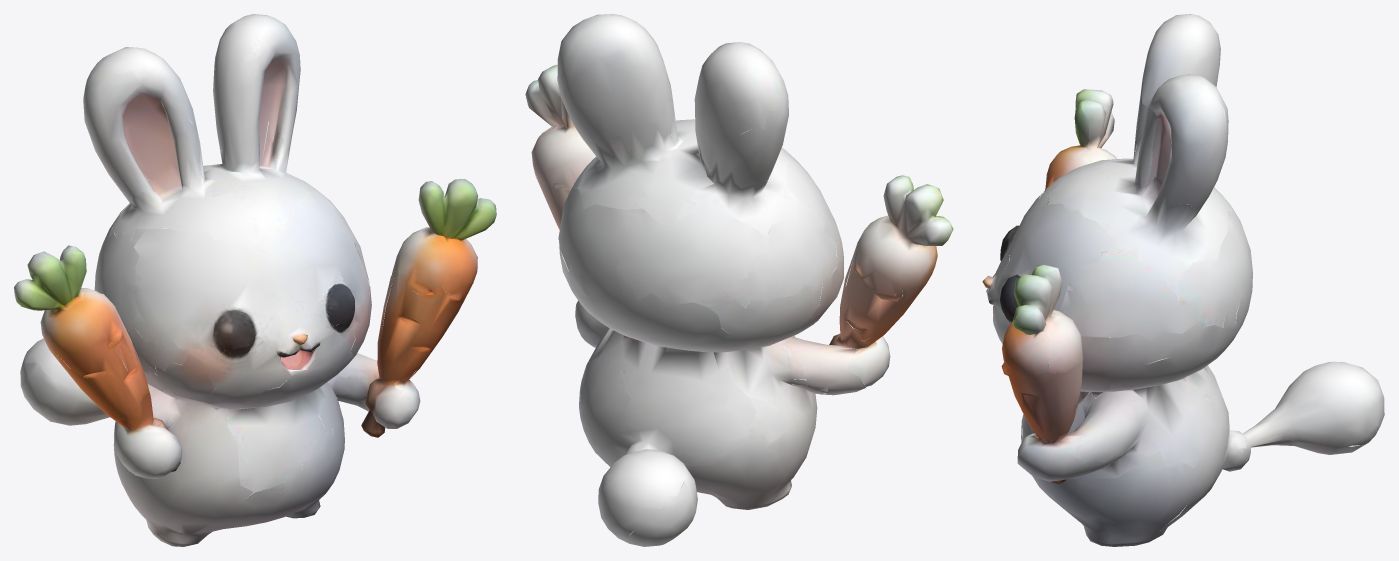
File: mob_rabbit.glb
3 renders of one model, left to right at view 1: azimuth 30°, elevation 25°; view 2: azimuth 150°, elevation 25°; view 3: azimuth 270°, elevation 25°, orthographic. The views are drawn at different scales.
Visible parts, largest first — view 1: tripo_node_277e6ef2-b4d9-4fe9-8adb-2c8b28834a59; view 2: tripo_node_277e6ef2-b4d9-4fe9-8adb-2c8b28834a59; view 3: tripo_node_277e6ef2-b4d9-4fe9-8adb-2c8b28834a59.
Boxes of the visible parts, box(x1,y1,x2,y2) form: tripo_node_277e6ef2-b4d9-4fe9-8adb-2c8b28834a59: box(14, 14, 496, 546); tripo_node_277e6ef2-b4d9-4fe9-8adb-2c8b28834a59: box(525, 14, 953, 546); tripo_node_277e6ef2-b4d9-4fe9-8adb-2c8b28834a59: box(982, 14, 1384, 546).
Bounding box in the file's own units: 0.997 × 1 × 0.7884.
1 material, 1 textured.
